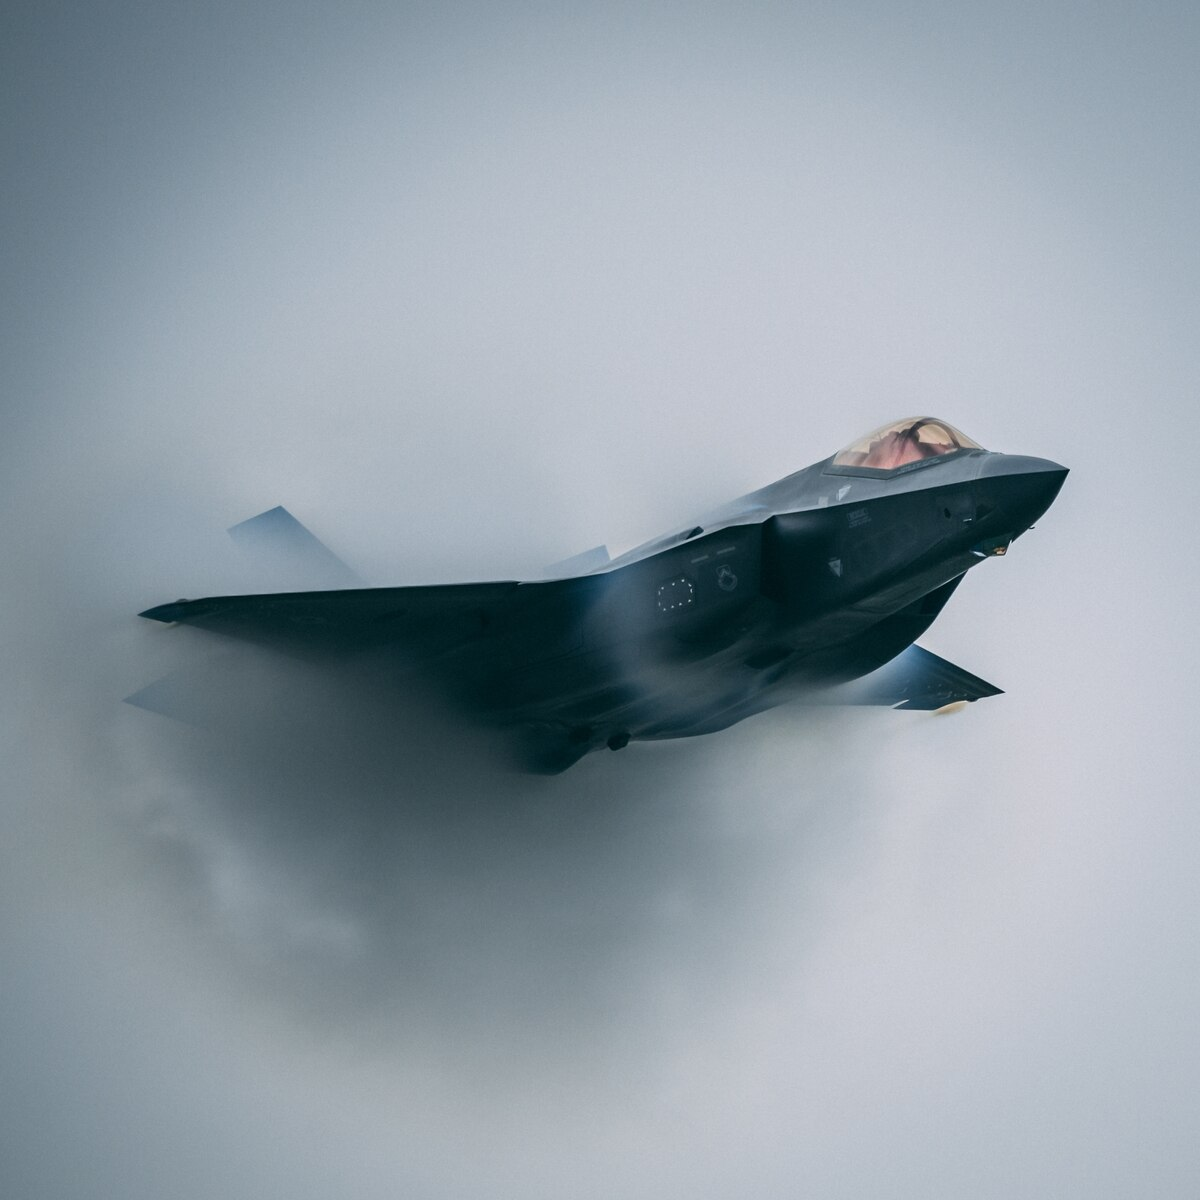F-35 Lightning: (97, 331, 1076, 918)
